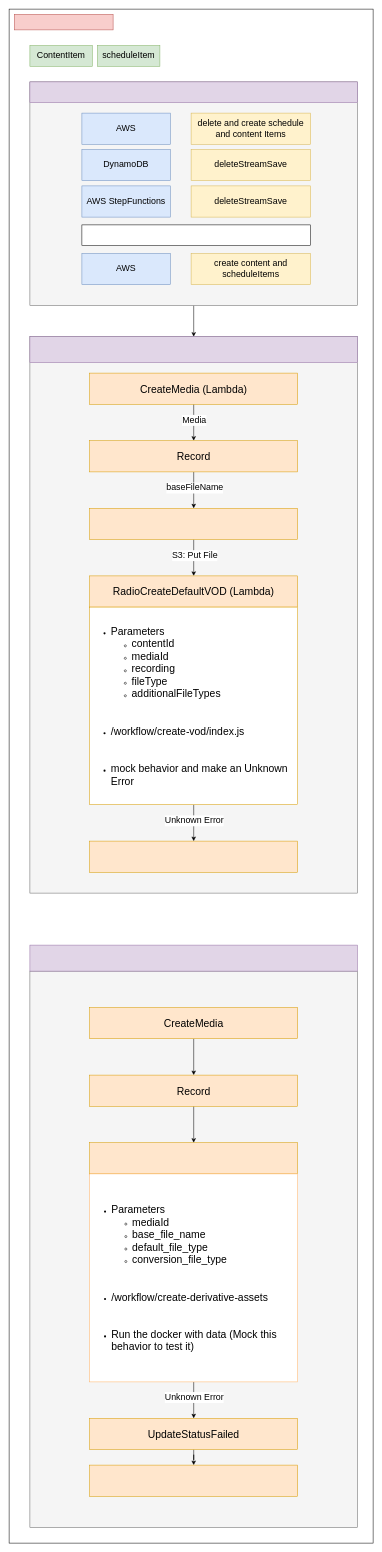
Image size: 382x1552. Some labels were removed from this diagram. Here are the shapes that lost their labels. From the top down, the box of each, then its label:
(14, 14, 113, 30): ErrorHangling.test.js
(29, 81, 358, 103): BeforeEach
(81, 224, 311, 246): add Date values to scheduleItem
(29, 336, 358, 363): Workflow Lambda Function Errror
(89, 508, 298, 540): CreateDerivativeAssets
(89, 841, 298, 872): UpdateStatusFailed (Lambda)
(29, 945, 358, 971): Workflow ECS Task Step Function Error
(89, 1142, 298, 1174): CreateDerivativeAssets (ECS:runTask.sync)
(89, 1465, 298, 1496): SLACK
